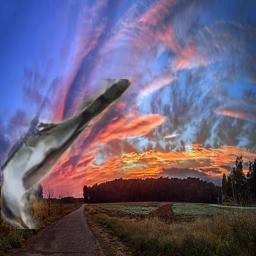Cuckoo: (1, 79, 131, 229)
